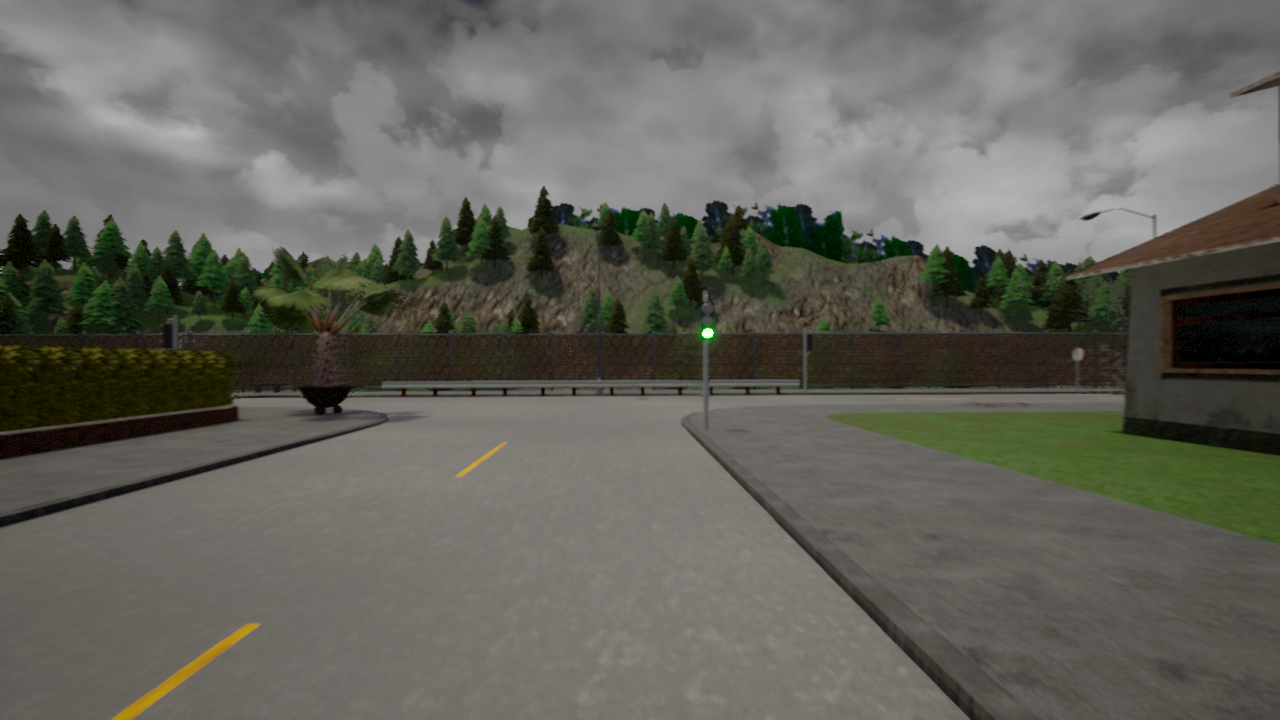green: (700, 302, 715, 340)
